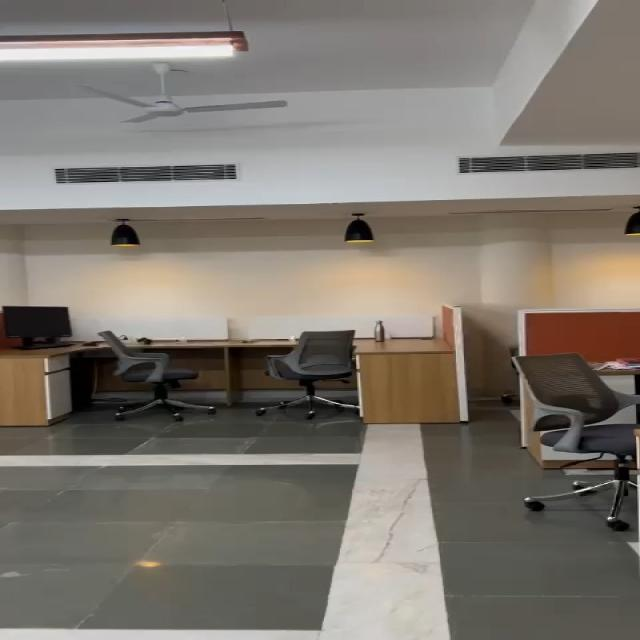floor: (0, 431, 501, 640)
furniture: (491, 349, 631, 518), (67, 325, 217, 436), (257, 329, 351, 431)
wall: (0, 127, 640, 311)
